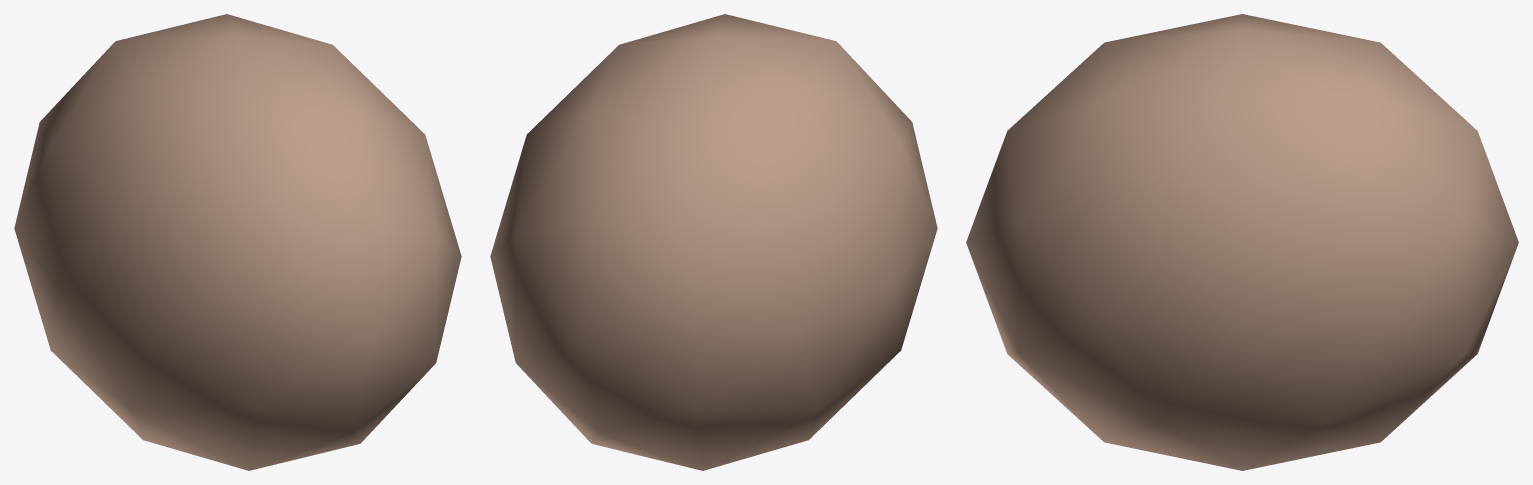
File: SARM_SAR_Decoy_Mannequin_001_Head.glb
3 views of the same model, side by side, from view 1: azimuth 30°, elevation 25°; view 2: azimuth 150°, elevation 25°; view 3: azimuth 270°, elevation 25° (orthographic). The views are drawn at different scales.
Parts seen in each view (by area): view 1: SAR_Decoy_Mannequin_001_Head.001; view 2: SAR_Decoy_Mannequin_001_Head.001; view 3: SAR_Decoy_Mannequin_001_Head.001.
Part boxes in pixels (x1=…): SAR_Decoy_Mannequin_001_Head.001: x1=14, y1=14, x2=461, y2=470; SAR_Decoy_Mannequin_001_Head.001: x1=490, y1=14, x2=937, y2=470; SAR_Decoy_Mannequin_001_Head.001: x1=966, y1=14, x2=1518, y2=470.
Bounding box in the file's own units: 0.1932 × 0.21 × 0.2478.
